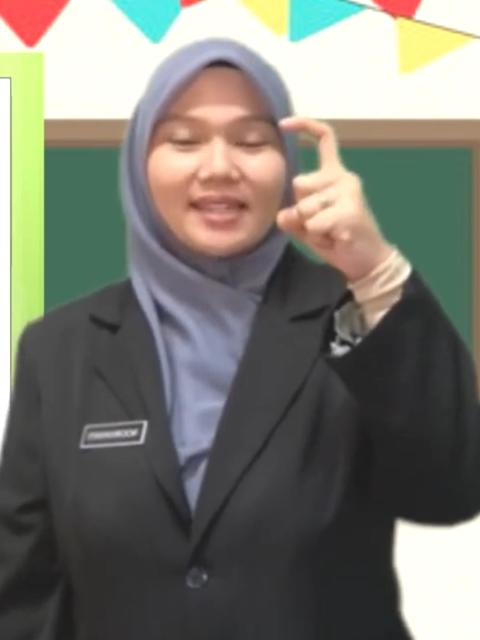X: (269, 96, 378, 280)
